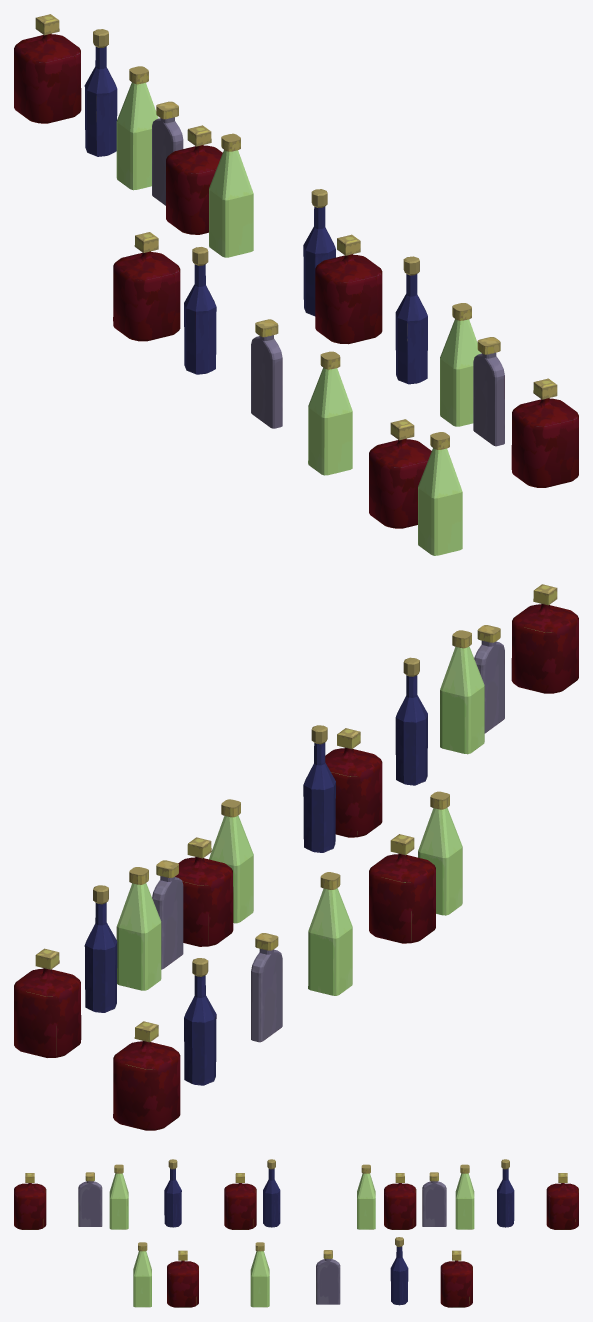
Rendered from Botella.fbx.
3 renders of one model, top to bottom at view 1: azimuth 30°, elevation 25°; view 2: azimuth 150°, elevation 25°; view 3: azimuth 270°, elevation 25°, orthographic. The views are drawn at different scales.
Visible parts, largest first — view 1: Cube.036; view 2: Cube.036; view 3: Cube.036.
Part boxes in pixels (box(x1,y1,x2,y2)): Cube.036: box(14, 14, 578, 555); Cube.036: box(14, 584, 578, 1130); Cube.036: box(14, 1159, 578, 1307).
Size of the model in its own units: 0.2128 by 3.73 by 1.04.
1 material, 1 textured.
